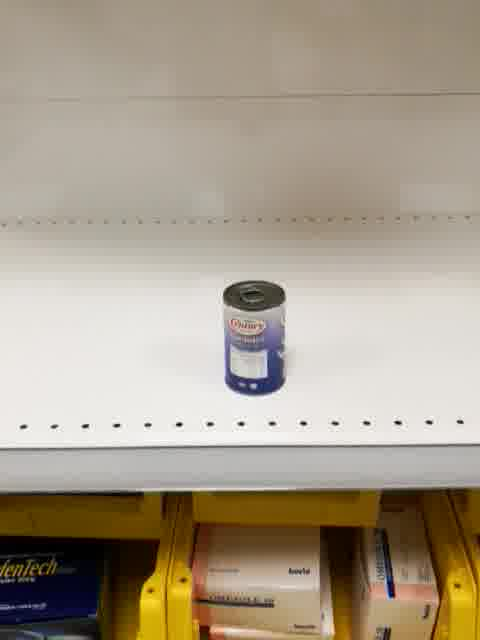sardine: (222, 278, 287, 397)
